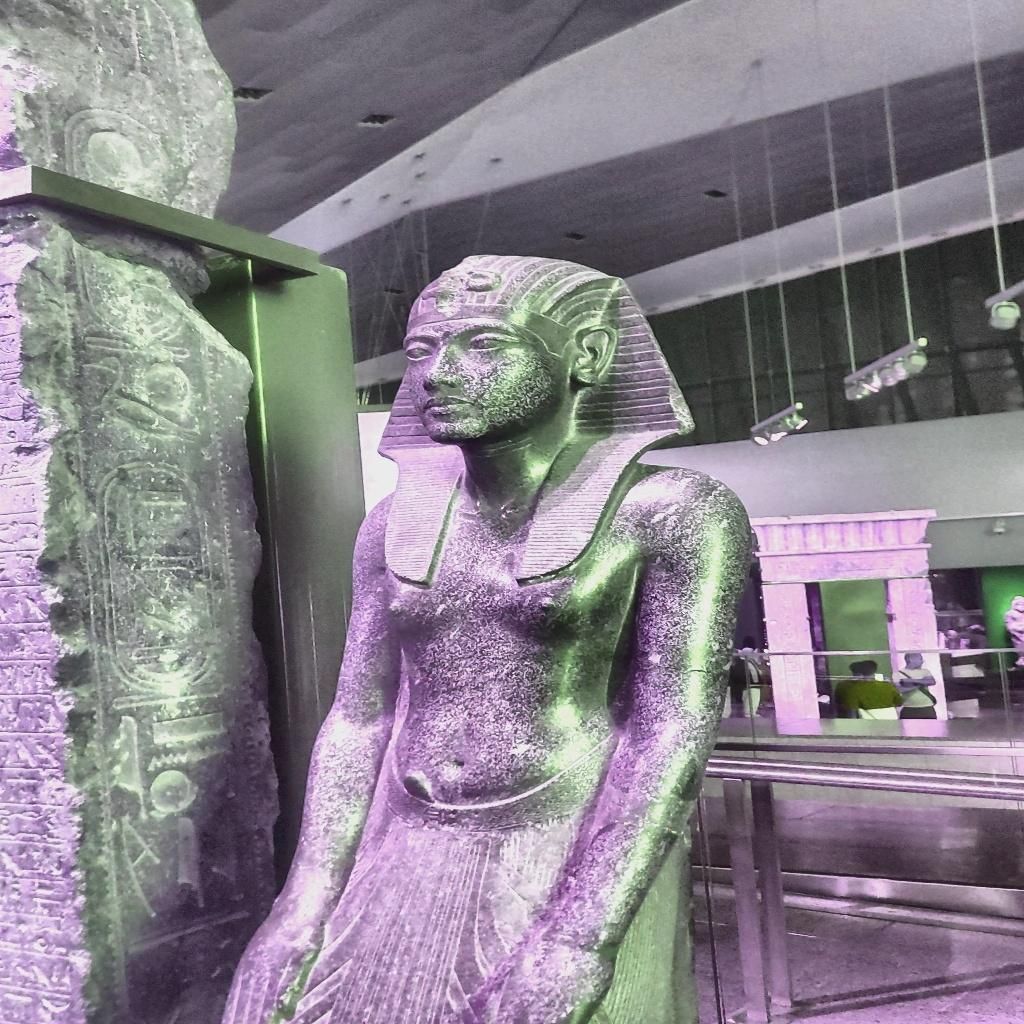Granite Statue of Tutankhamun: (220, 249, 762, 1021)
